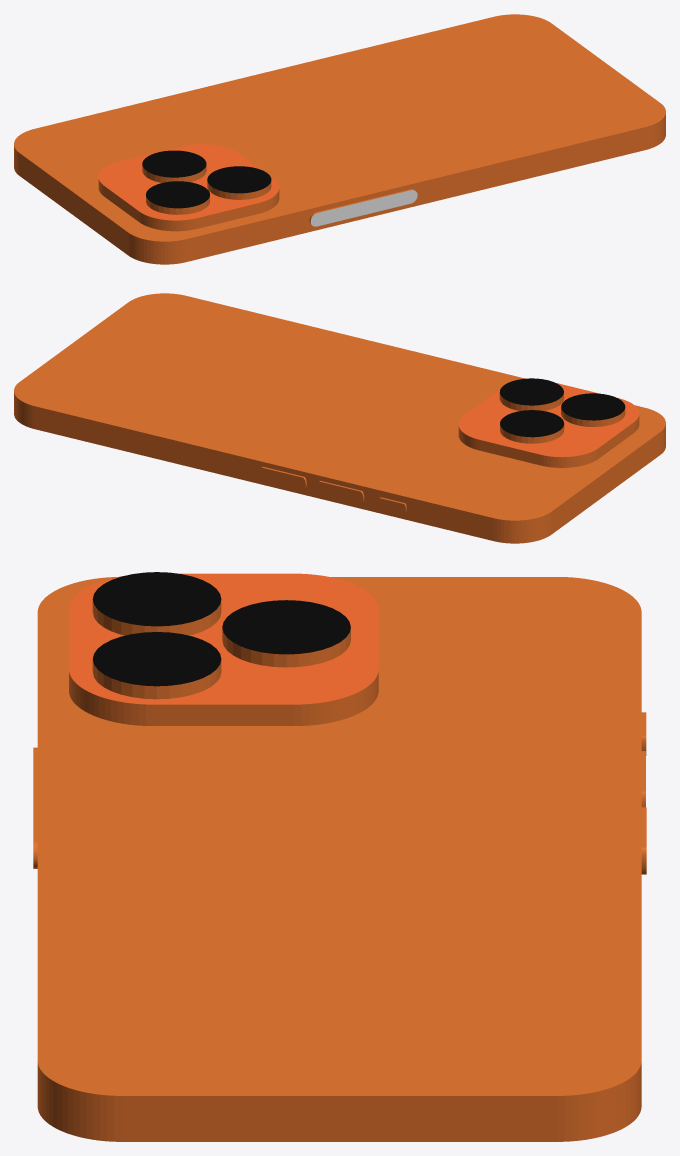
File: CelularTP14-co56lor.fbx
3 renders of one model, top to bottom at view 1: azimuth 30°, elevation 25°; view 2: azimuth 150°, elevation 25°; view 3: azimuth 270°, elevation 25°, orthographic. The views are drawn at different scales.
Parts seen in each view (by area): view 1: Cube; view 2: Cube; view 3: Cube.
Boxes of the visible parts, left/top/right/bottom form: Cube: left=14, top=14, right=665, bottom=264; Cube: left=14, top=293, right=665, bottom=543; Cube: left=33, top=572, right=646, bottom=1141.
Bounding box in the file's own units: 407 × 29.43 × 203.
